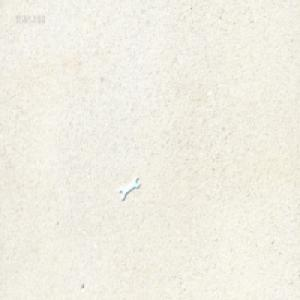Wrench: (119, 176, 140, 202)
